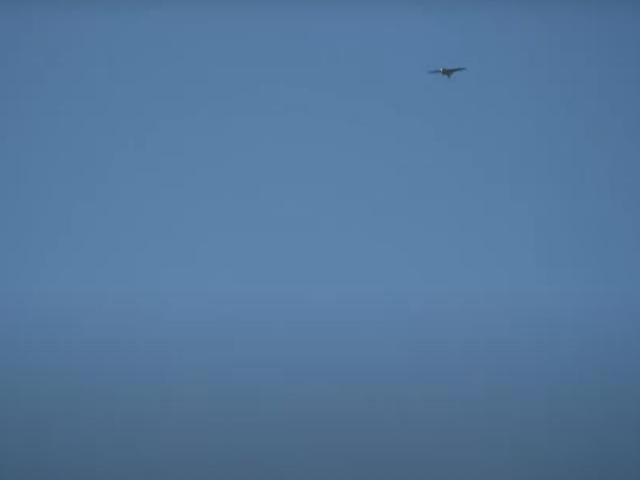iha: (428, 61, 467, 81)
